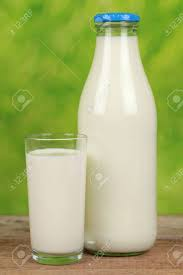milk: (76, 6, 178, 242), (17, 119, 98, 260)
